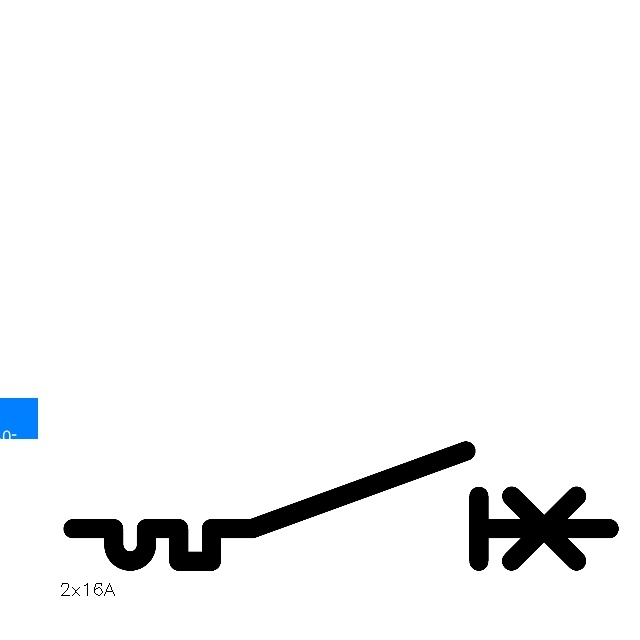interruptor_termomagnetico: (59, 437, 623, 575)
